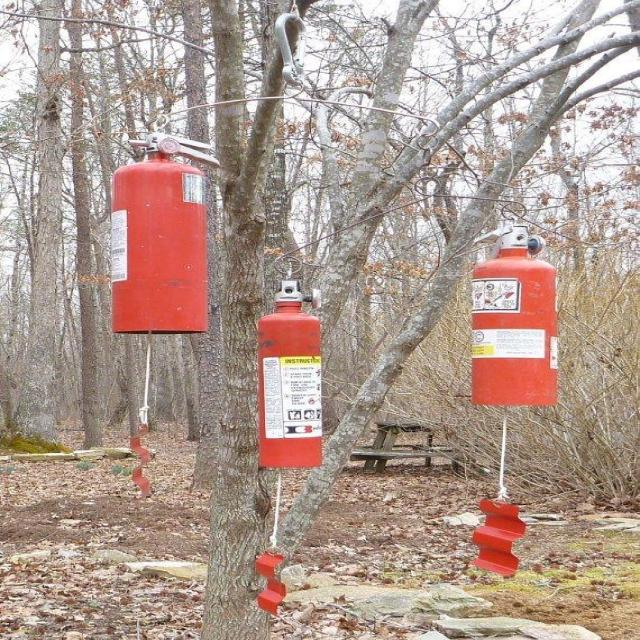fire_extinguisher: (101, 106, 228, 343), (461, 198, 572, 411), (254, 252, 328, 472)
